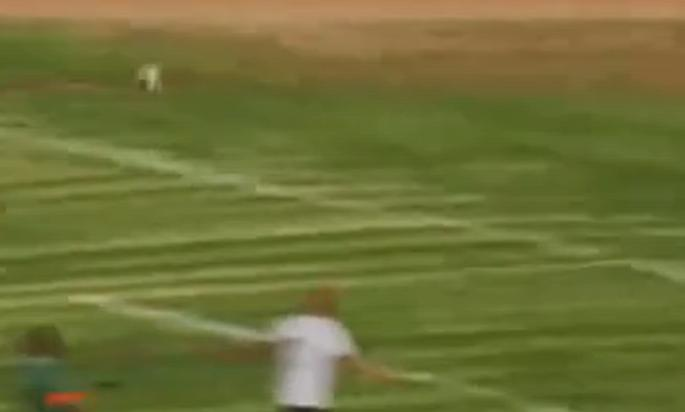ball: (125, 54, 178, 103)
